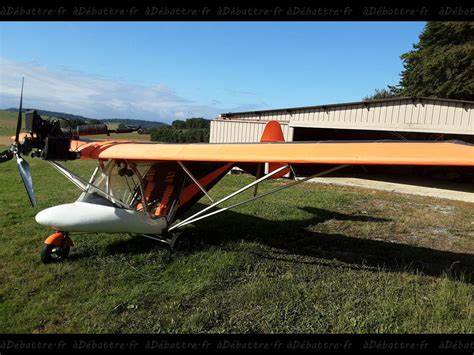Aeronef_de_loisir: (1, 64, 474, 263)
